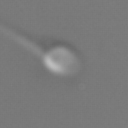normal: (1, 16, 44, 56)
